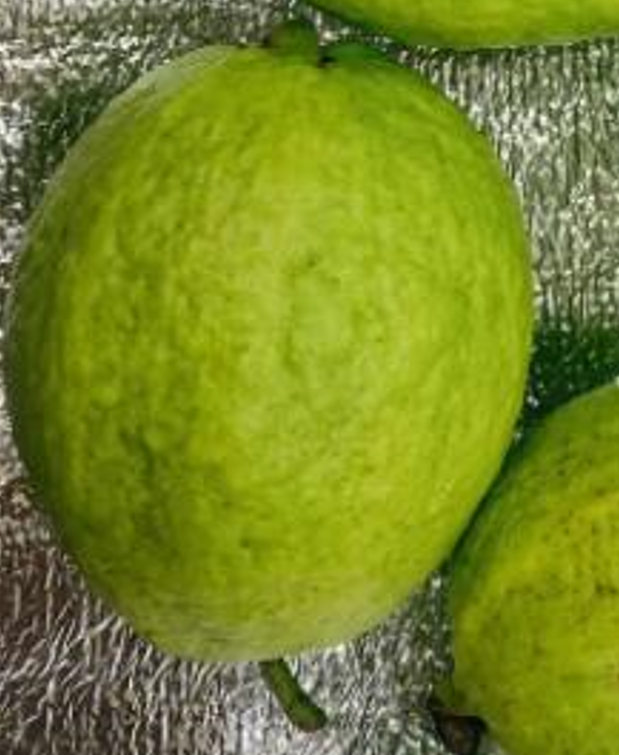guava_A: (13, 16, 533, 666)
